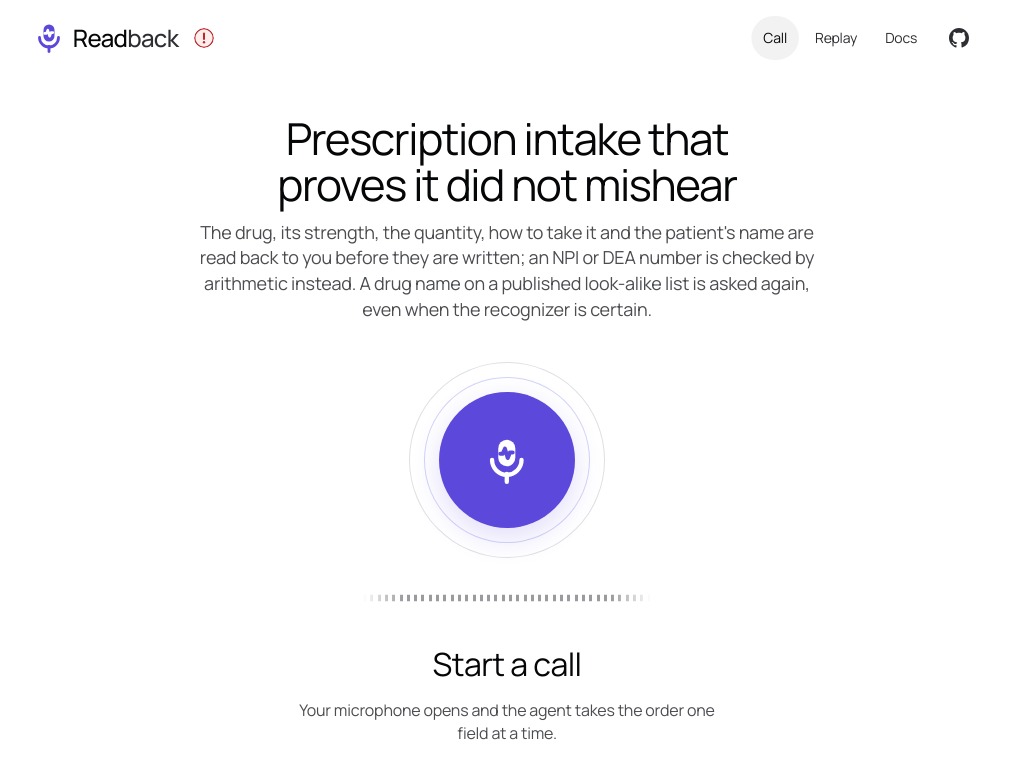
Test: H12: no failure is replaced by a made-up answer › shows an unreachable server as an alert
The width and height of the screenshot is (1024, 759).
Click the button named "Start listening": point(507, 460) [439, 392, 575, 528]
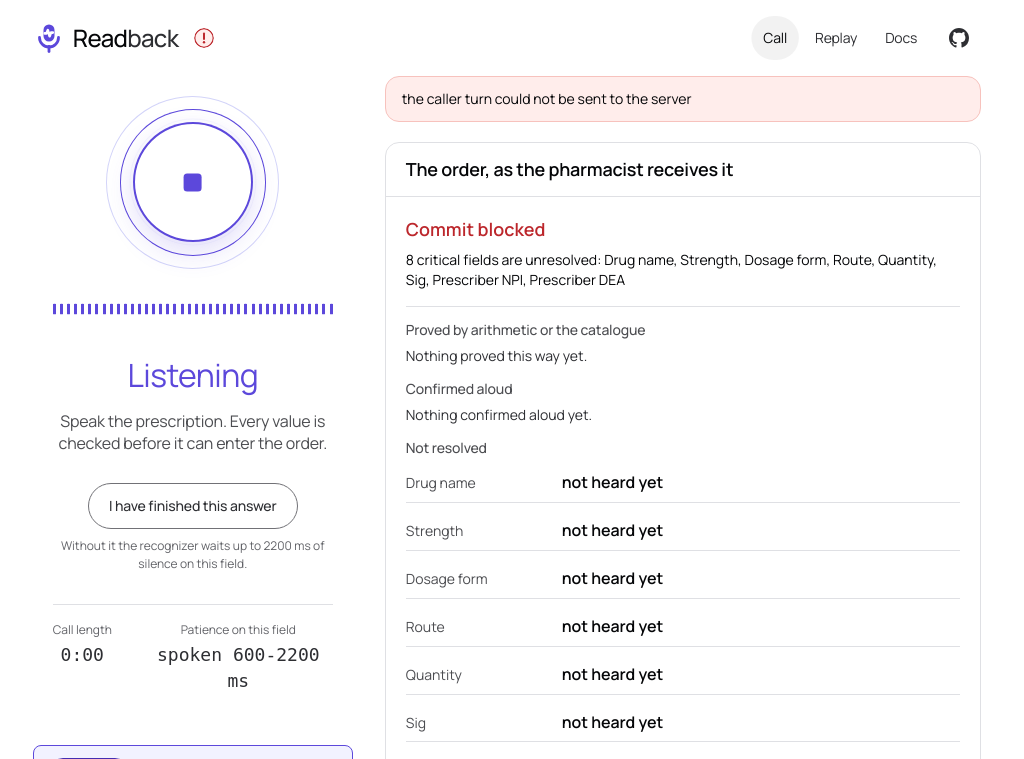
Check: the message shows "could not be sent to the server", box [402, 89, 692, 108]
